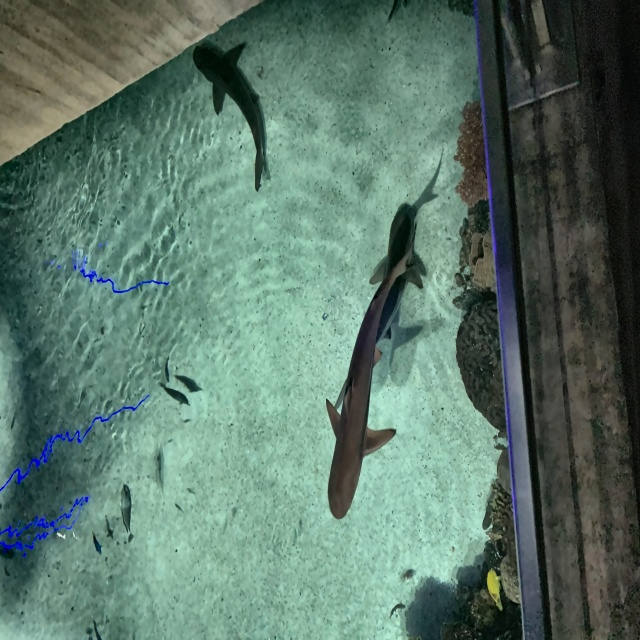fish: (120, 483, 135, 543), (159, 382, 189, 407), (487, 566, 503, 612), (390, 601, 407, 618), (92, 531, 103, 555), (164, 356, 171, 381)
shark: (318, 235, 418, 532), (350, 199, 428, 383), (190, 36, 273, 197)
